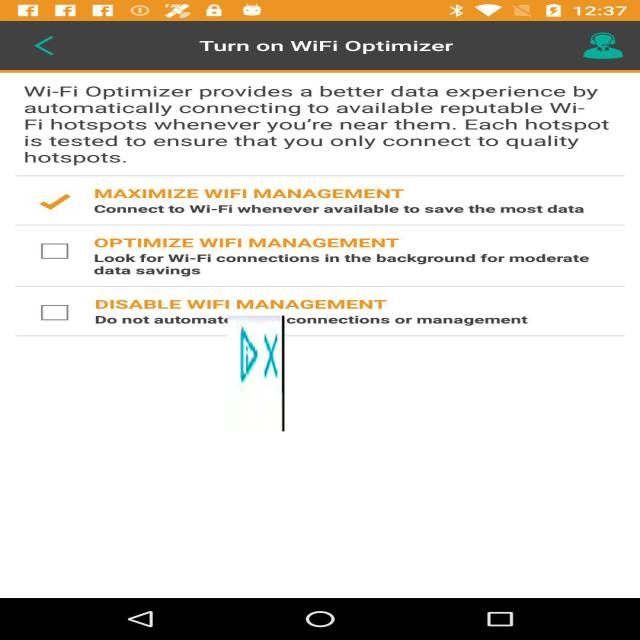sneaking: (228, 316, 284, 431)
